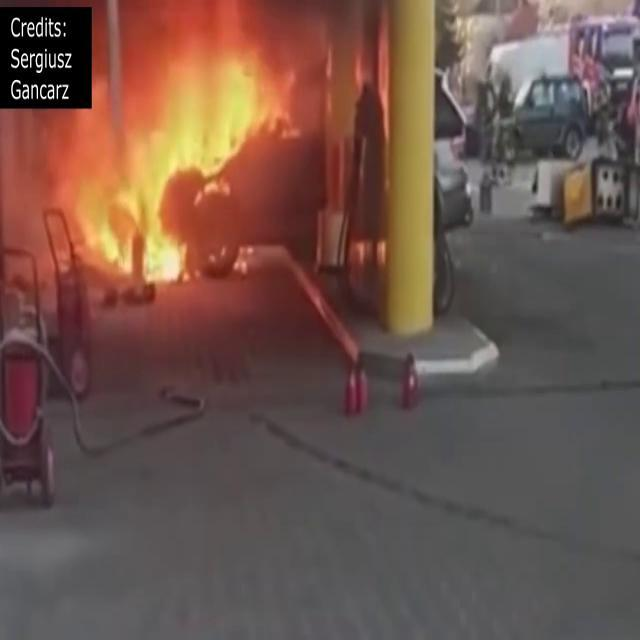Fire: (28, 2, 304, 304)
